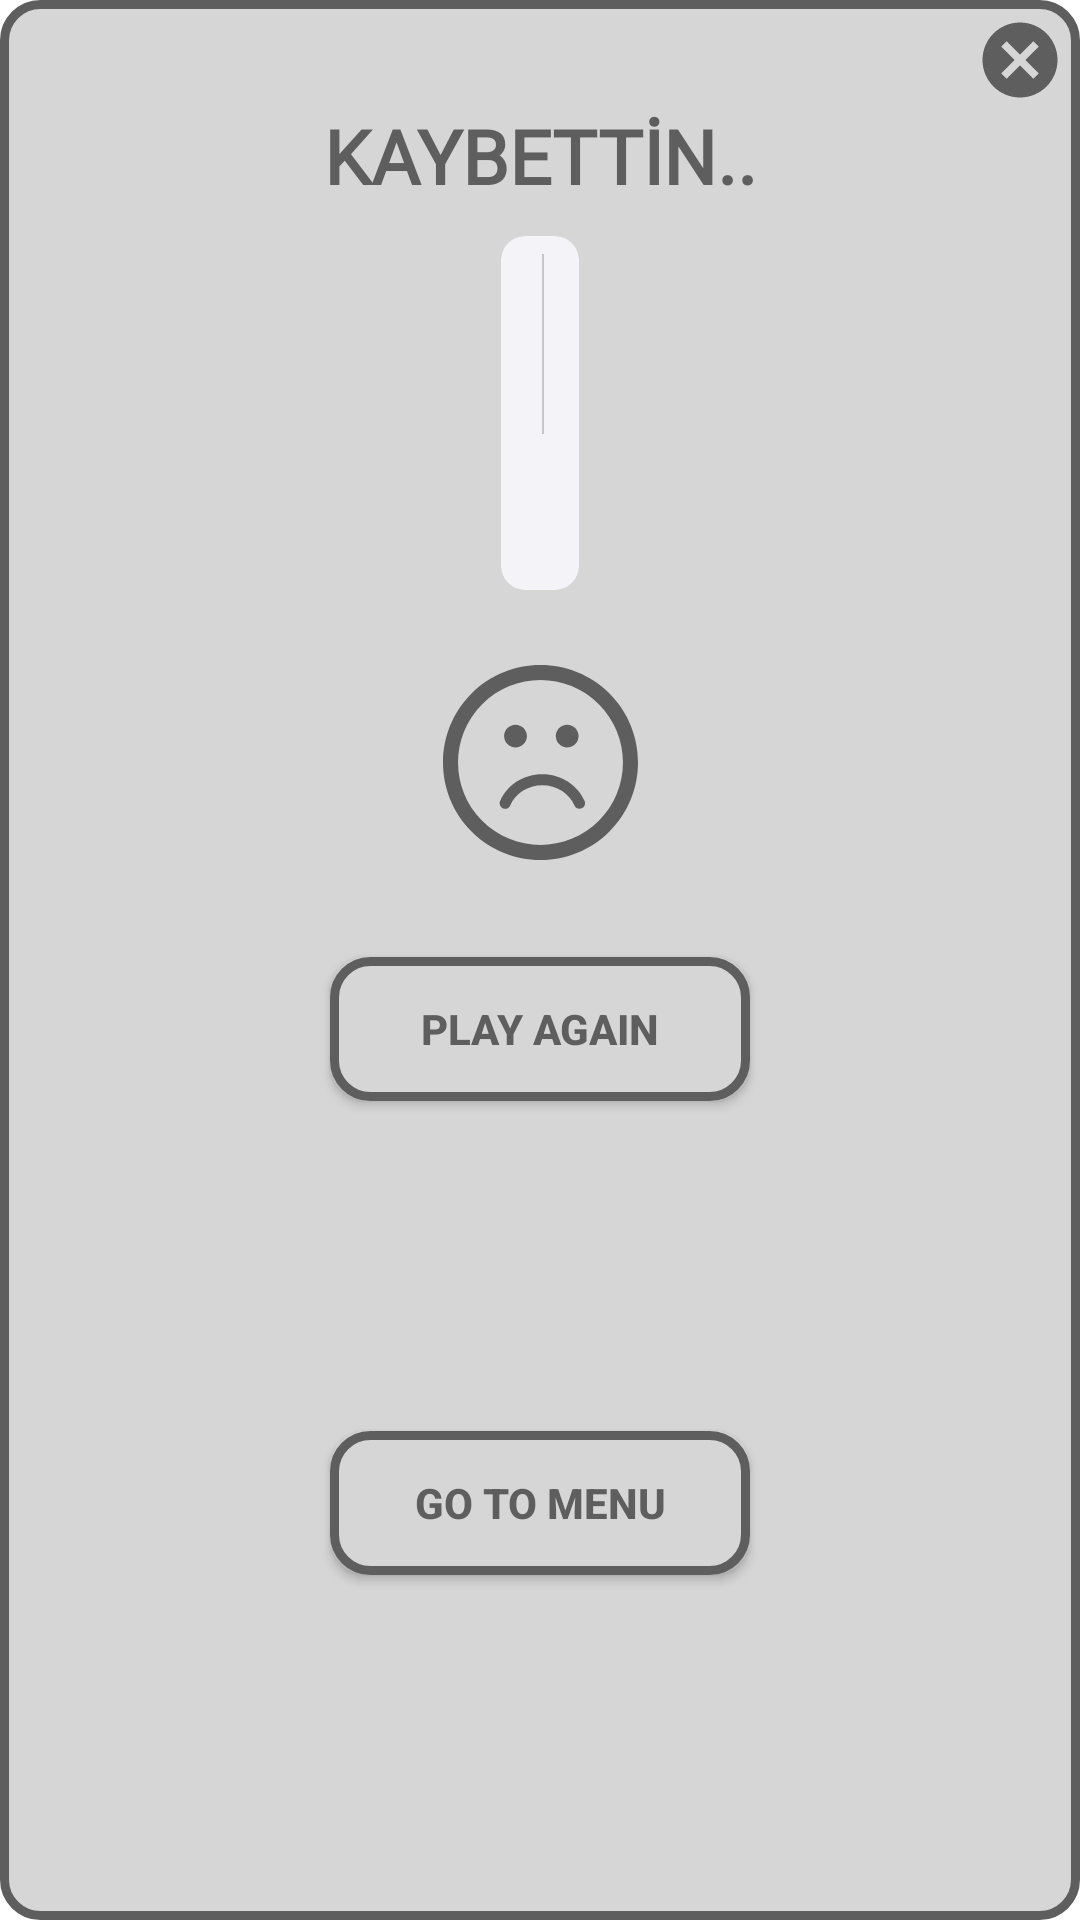

Screen size 1080*1920. Icon name, then its center in pixels as (x=x, y=y):
cancel kaybettin: (x=1020, y=60)
sadface: (x=540, y=762)
